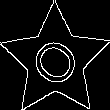O_SE: (24, 28, 87, 93)
